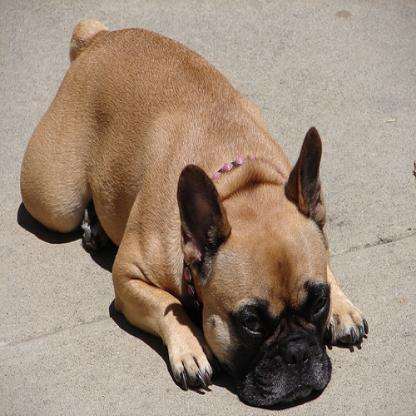French_bulldog: (18, 13, 371, 412)
